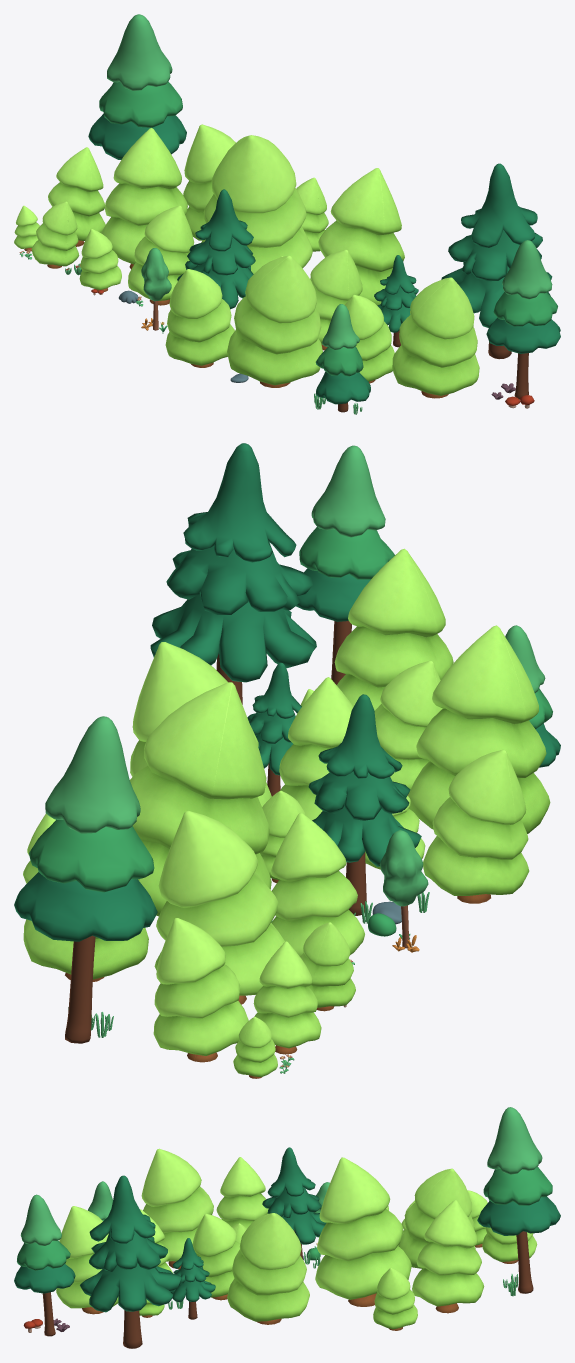
The model's file is customtree.gltf.
3 views of the same model, one above another, from view 1: azimuth 30°, elevation 25°; view 2: azimuth 150°, elevation 25°; view 3: azimuth 270°, elevation 25° (orthographic). The views are drawn at different scales.
Visible parts, largest first — view 1: Group002_Material #11267_0, Group012_Material #11267_0, Group009_Material #11267_0, Group010_Material #11267_0, Group011_Material #11267_0.001, Conifer_04_LOD1_Mat_Nature_0.001, Pine_05_LOD1_Mat_Nature_0.008, Group011_Material #11267_0.002, Conifer_04_LOD1_Mat_Nature_0.002, Pine_05_LOD1_Mat_Nature_0.001, Conifer_03_LOD1_Mat_Nature_0.002, Pine_05_LOD1_Mat_Nature_0.009 (+1 smaller); view 2: Group002_Material #11267_0, Group009_Material #11267_0, Conifer_04_LOD1_Mat_Nature_0.001, Pine_05_LOD1_Mat_Nature_0.008, Group012_Material #11267_0, Group011_Material #11267_0.002, Group010_Material #11267_0, Group011_Material #11267_0.001, Pine_05_LOD1_Mat_Nature_0.001, Conifer_04_LOD1_Mat_Nature_0.002, Pine_05_LOD1_Mat_Nature_0.009, Tree_E_01_LOD1_Mat_Nature_0.003 (+1 smaller); view 3: Group012_Material #11267_0, Group011_Material #11267_0.001, Pine_05_LOD1_Mat_Nature_0.008, Group002_Material #11267_0, Conifer_04_LOD1_Mat_Nature_0.001, Conifer_04_LOD1_Mat_Nature_0.002, Group010_Material #11267_0, Group009_Material #11267_0, Pine_05_LOD1_Mat_Nature_0.001, Pine_05_LOD1_Mat_Nature_0.009, Group011_Material #11267_0.002, Conifer_03_LOD1_Mat_Nature_0.002.
Part boxes in pixels (x1,y1,x2,y2): Group002_Material #11267_0: (165,255,322,387); Group012_Material #11267_0: (183,124,328,273); Group009_Material #11267_0: (79,128,194,305); Group010_Material #11267_0: (345,277,479,398); Group011_Material #11267_0.001: (281,168,404,350); Conifer_04_LOD1_Mat_Nature_0.001: (88,14,186,159); Pine_05_LOD1_Mat_Nature_0.008: (441,163,552,359); Group011_Material #11267_0.002: (14,147,105,268); Conifer_04_LOD1_Mat_Nature_0.002: (486,240,560,399); Pine_05_LOD1_Mat_Nature_0.001: (177,189,255,309); Conifer_03_LOD1_Mat_Nature_0.002: (315,304,370,412); Pine_05_LOD1_Mat_Nature_0.009: (374,255,418,347); Group002_Material #11267_0: (365,625,550,903); Group009_Material #11267_0: (154,810,364,1011); Conifer_04_LOD1_Mat_Nature_0.001: (14,716,157,1043); Pine_05_LOD1_Mat_Nature_0.008: (150,443,316,704); Group012_Material #11267_0: (23,682,271,981); Group011_Material #11267_0.002: (153,918,321,1078); Group010_Material #11267_0: (301,548,453,795); Group011_Material #11267_0.001: (130,642,353,883); Pine_05_LOD1_Mat_Nature_0.001: (308,694,421,915); Conifer_04_LOD1_Mat_Nature_0.002: (296,445,394,684); Pine_05_LOD1_Mat_Nature_0.009: (247,662,301,796); Tree_E_01_LOD1_Mat_Nature_0.003: (379,830,428,948); Group012_Material #11267_0: (315,1157,484,1330); Group011_Material #11267_0.001: (192,1213,309,1324); Pine_05_LOD1_Mat_Nature_0.008: (80,1175,181,1348); Group002_Material #11267_0: (141,1148,268,1269); Conifer_04_LOD1_Mat_Nature_0.001: (477,1107,560,1293); Conifer_04_LOD1_Mat_Nature_0.002: (14,1194,75,1336); Group010_Material #11267_0: (56,1206,173,1317); Group009_Material #11267_0: (386,1168,475,1268); Pine_05_LOD1_Mat_Nature_0.001: (262,1147,326,1259); Pine_05_LOD1_Mat_Nature_0.009: (170,1238,215,1319); Group011_Material #11267_0.002: (467,1190,537,1263); Conifer_03_LOD1_Mat_Nature_0.002: (88,1181,112,1220).
Bounding box in the file's own units: 121 × 79.28 × 216.
43 materials, 43 textured.
